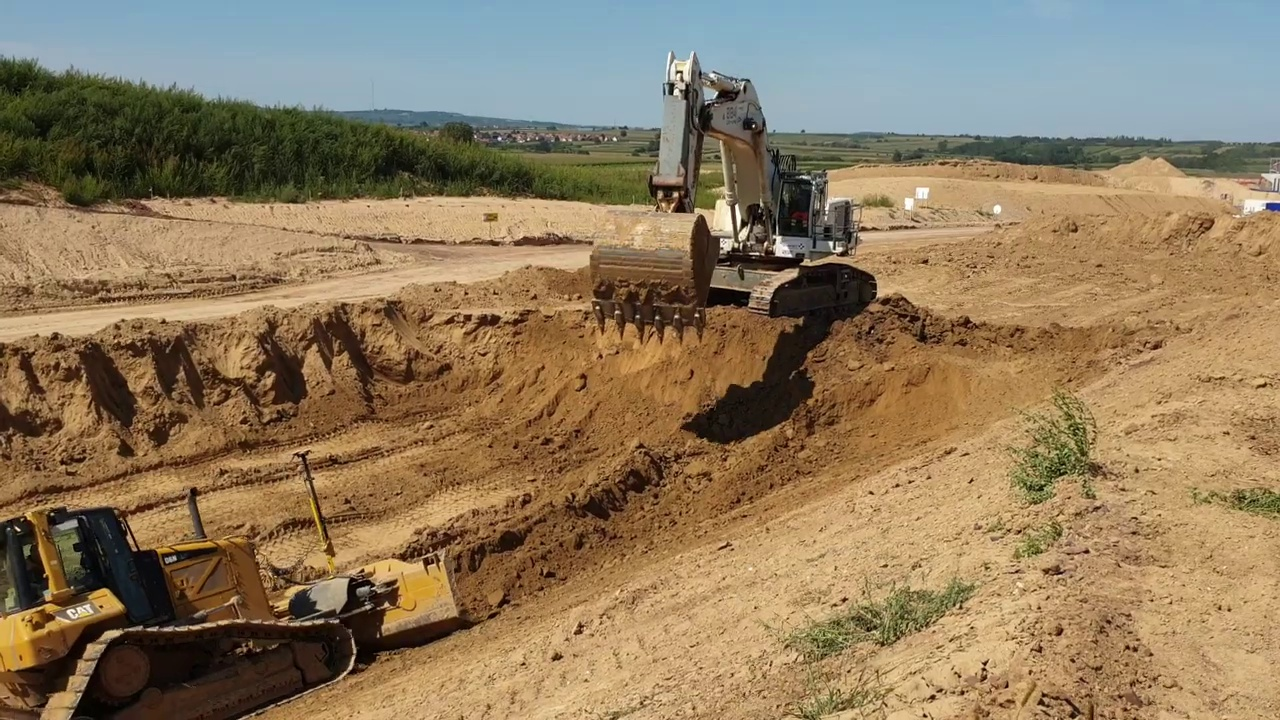bulldozer: (2, 448, 471, 720)
excavator: (584, 44, 883, 348)
